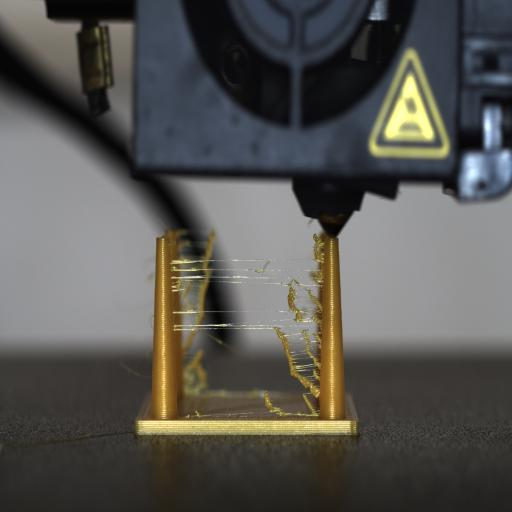stringing: (180, 238, 328, 419), (252, 260, 272, 273)
